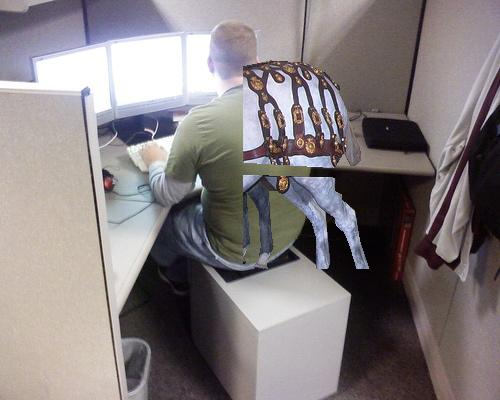tampered: (244, 61, 369, 269)
